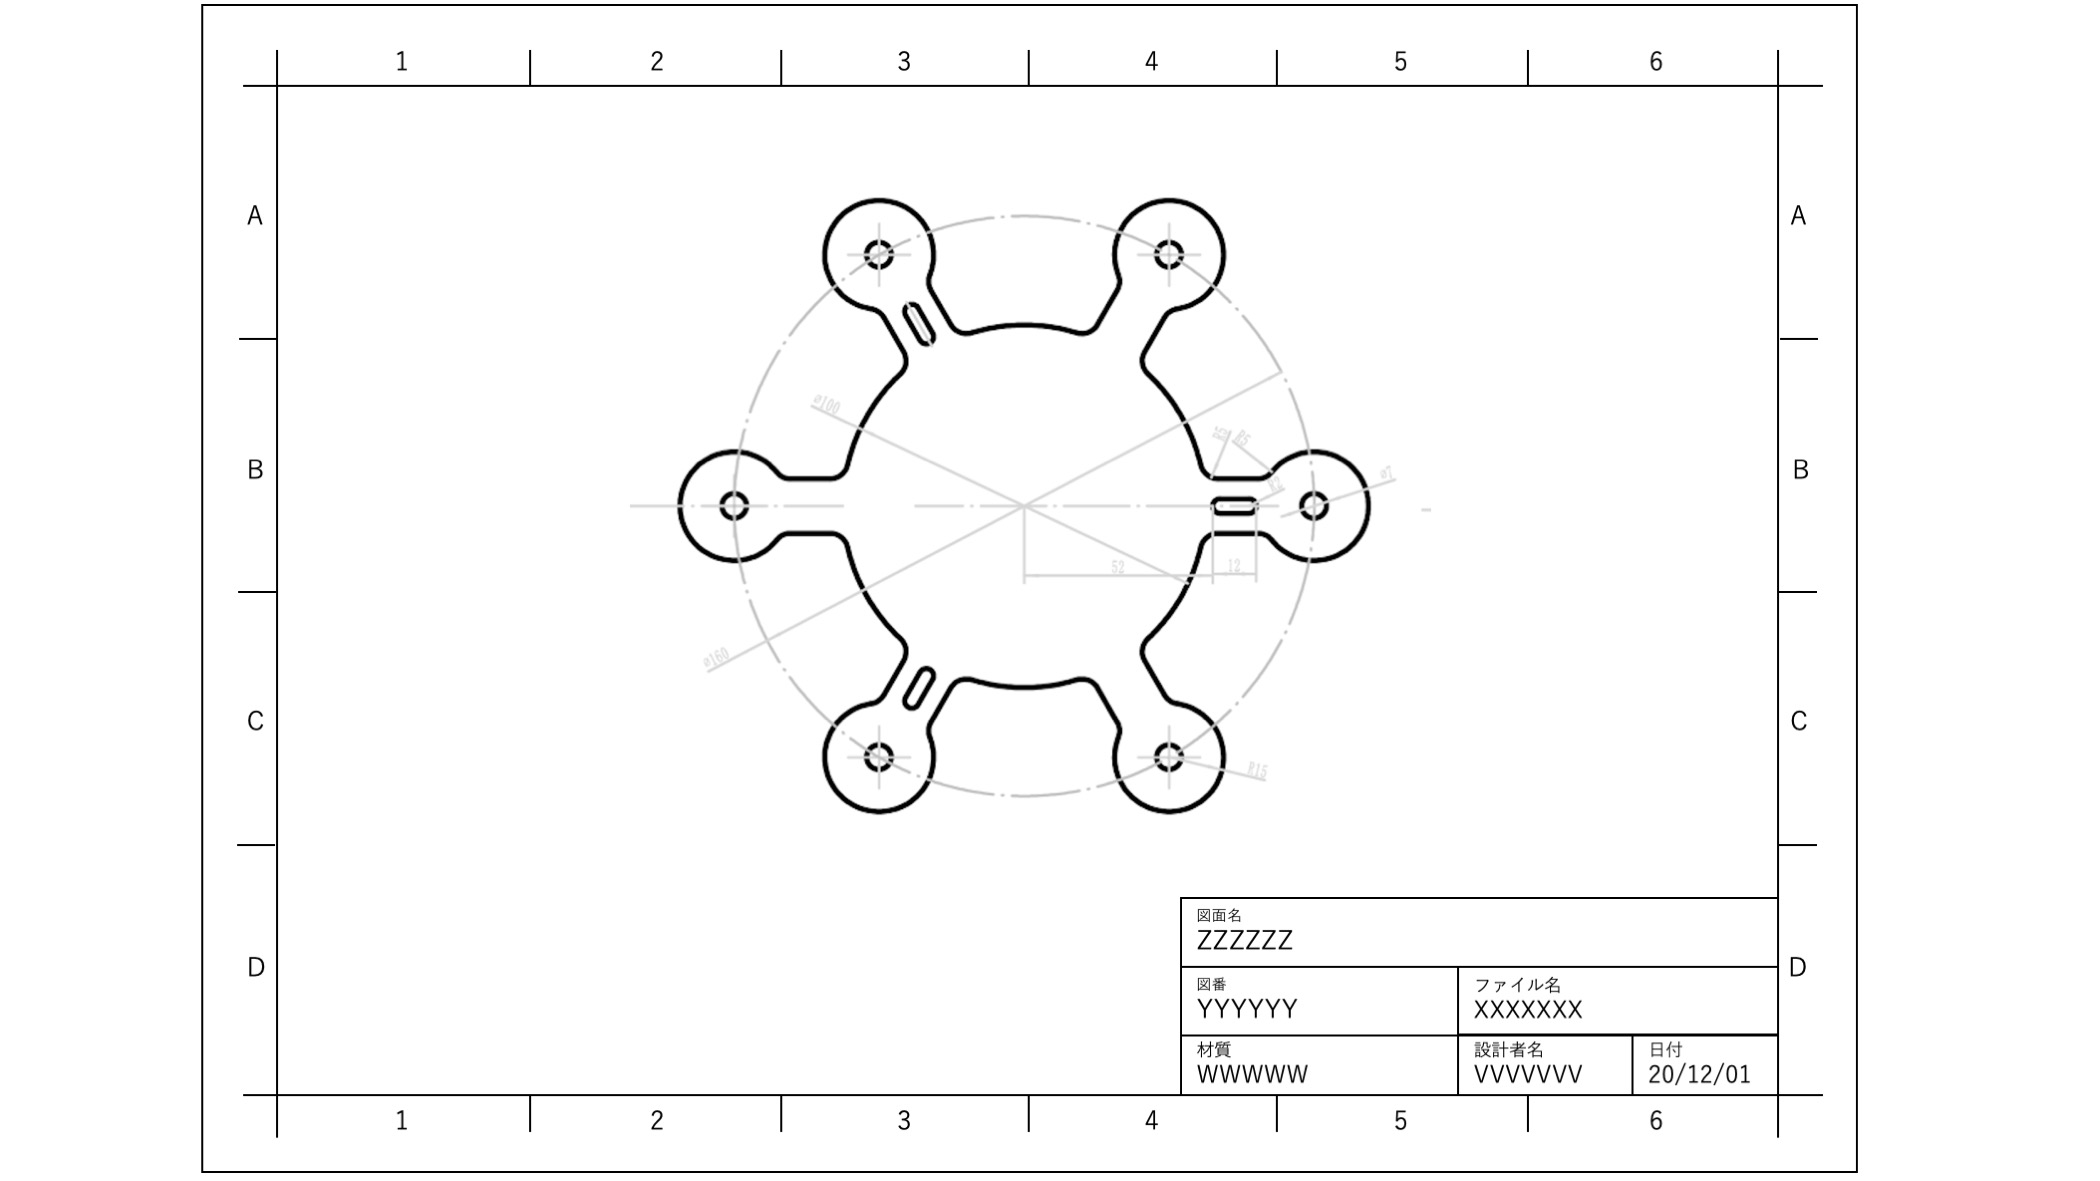circle: (864, 734, 901, 792), (1147, 740, 1193, 777), (861, 239, 901, 278), (1152, 228, 1191, 268), (714, 486, 757, 522), (1301, 485, 1333, 522)
round_rectangle: (891, 294, 946, 348), (899, 658, 950, 711), (1196, 490, 1276, 516)
